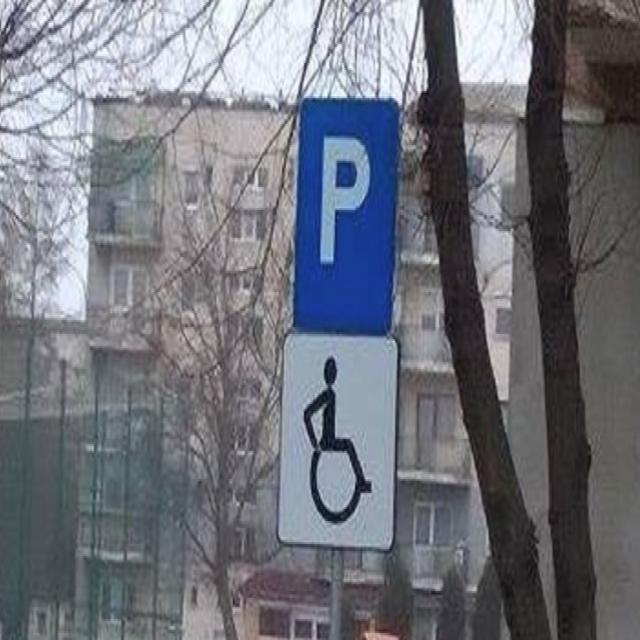symbol_of_access: (272, 328, 402, 558)
